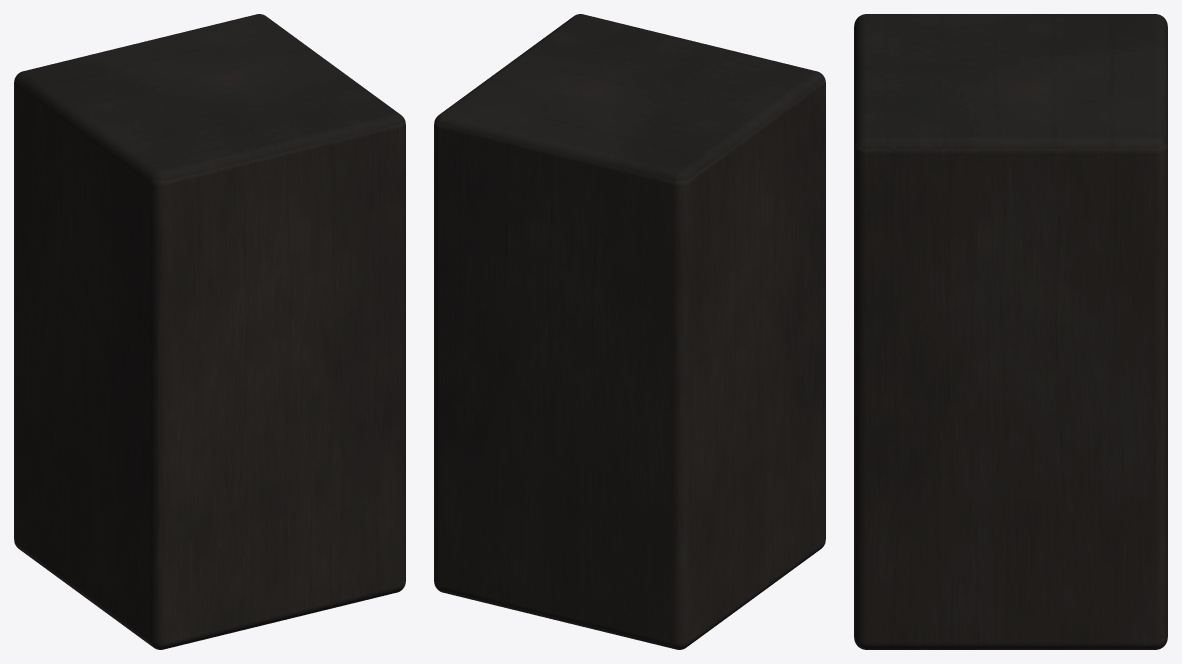
The model's file is rook-black.glb.
3 renders of one model, left to right at view 1: azimuth 30°, elevation 25°; view 2: azimuth 150°, elevation 25°; view 3: azimuth 270°, elevation 25°, orthographic. The views are drawn at different scales.
Parts seen in each view (by area): view 1: Rez_Vez_cerny; view 2: Rez_Vez_cerny; view 3: Rez_Vez_cerny.
Part boxes in pixels (x1,y1,x2,y2): Rez_Vez_cerny: [14, 14, 405, 649]; Rez_Vez_cerny: [434, 14, 825, 649]; Rez_Vez_cerny: [854, 14, 1167, 649].
Size of the model in its own units: 0.4834 by 0.87 by 0.4834.
2 materials, 2 textured.
